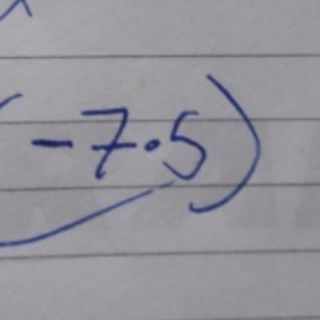.: (144, 135, 161, 155)
5: (162, 103, 211, 182)
7: (81, 99, 136, 183)
